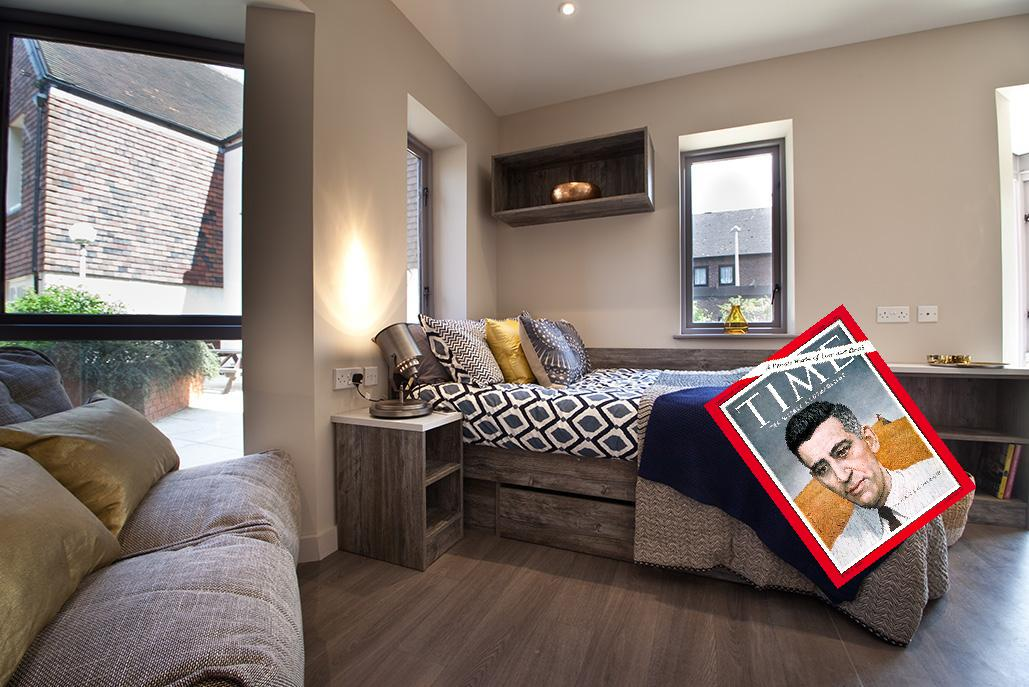times: (701, 300, 979, 589)
